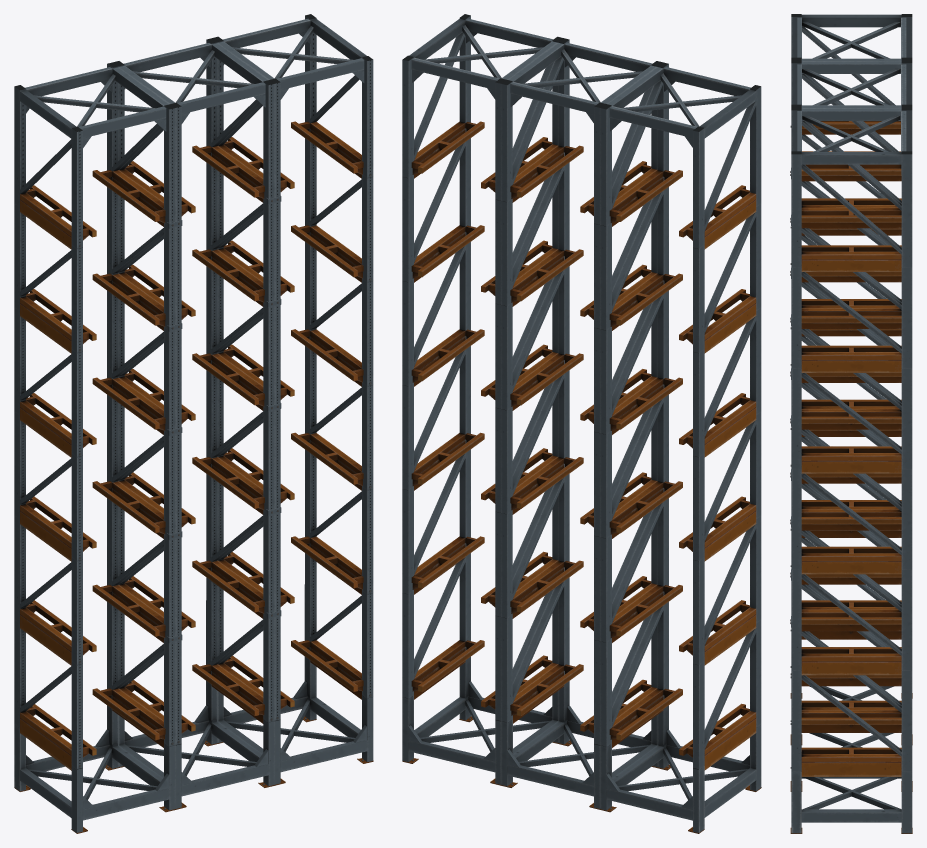
The model's file is Rack.glb.
The picture shows the model from 3 angles, left to right: view 1: azimuth 30°, elevation 25°; view 2: azimuth 150°, elevation 25°; view 3: azimuth 270°, elevation 25°; orthographic projection. The views are drawn at different scales.
Parts seen in each view (by area): view 1: Rack; view 2: Rack; view 3: Rack.
Boxes of the visible parts, x1=… form: Rack: x1=14, y1=14, x2=373, y2=833; Rack: x1=402, y1=14, x2=761, y2=833; Rack: x1=790, y1=14, x2=912, y2=833.
Size of the model in its own units: 3.37 by 7.62 by 1.25.
1 material, 1 textured.
